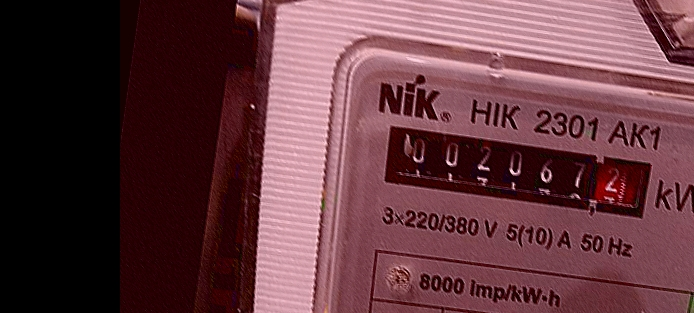0: (504, 146, 526, 176), (408, 134, 429, 165), (441, 137, 462, 168)
2: (601, 162, 623, 194), (474, 142, 495, 173)
6: (536, 153, 558, 184)
7: (569, 158, 589, 190)
screen: (367, 110, 668, 232)
